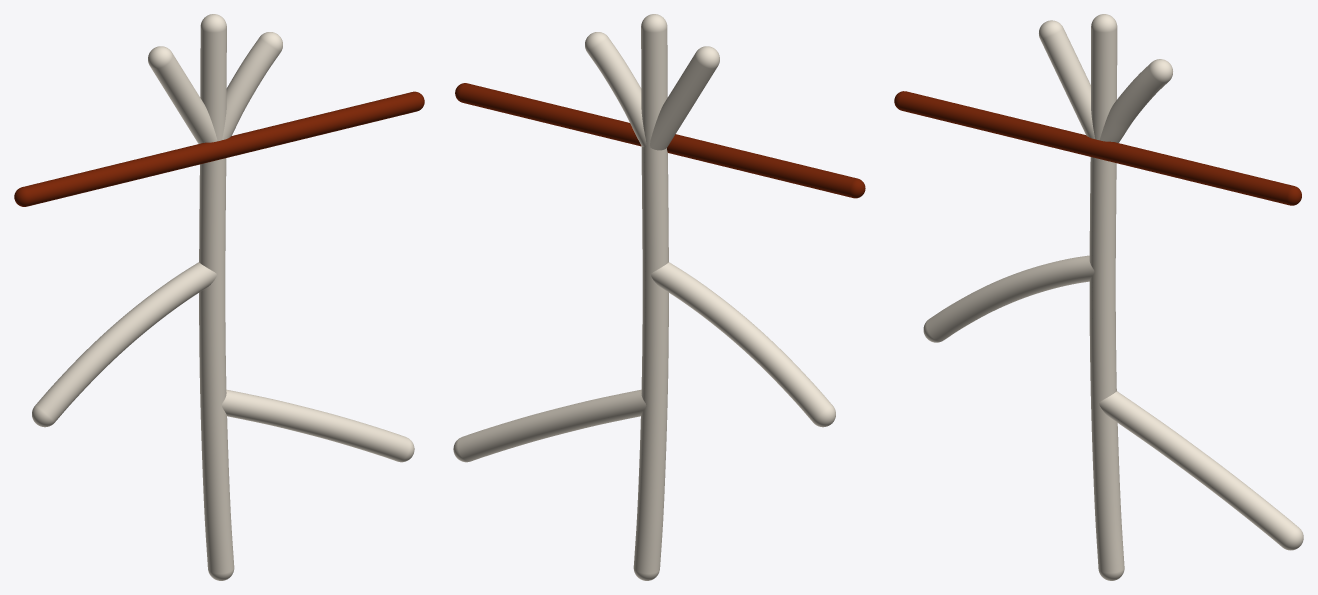
File: rootland-mark-no-plinth.obj
The picture shows the model from 3 angles, left to right: view 1: azimuth 30°, elevation 25°; view 2: azimuth 150°, elevation 25°; view 3: azimuth 330°, elevation 25°; orthographic projection.
Parts seen in each view (by area): view 1: stem, crossbar, branch_left, branch_right, prong_left, prong_right; view 2: stem, crossbar, branch_left, branch_right, prong_left, prong_right; view 3: stem, crossbar, branch_right, branch_left, prong_left, prong_right.
Boxes of the visible parts, box(x1,y1,x2,y2) form: stem: box(199, 14, 234, 580); crossbar: box(14, 91, 424, 206); branch_left: box(32, 262, 216, 427); branch_right: box(221, 389, 414, 462); prong_left: box(148, 46, 217, 143); prong_right: box(222, 32, 282, 139); stem: box(633, 14, 668, 580); crossbar: box(455, 83, 865, 198); branch_left: box(651, 262, 835, 427); branch_right: box(453, 389, 646, 462); prong_left: box(650, 46, 719, 150); prong_right: box(585, 32, 646, 146); stem: box(1089, 14, 1124, 580); crossbar: box(894, 91, 1301, 205); branch_right: box(1099, 391, 1303, 550); branch_left: box(923, 255, 1094, 342); prong_left: box(1039, 20, 1094, 138); prong_right: box(1099, 59, 1172, 142).
Bounding box in the file's own units: 0.226 × 0.3 × 0.0168.
